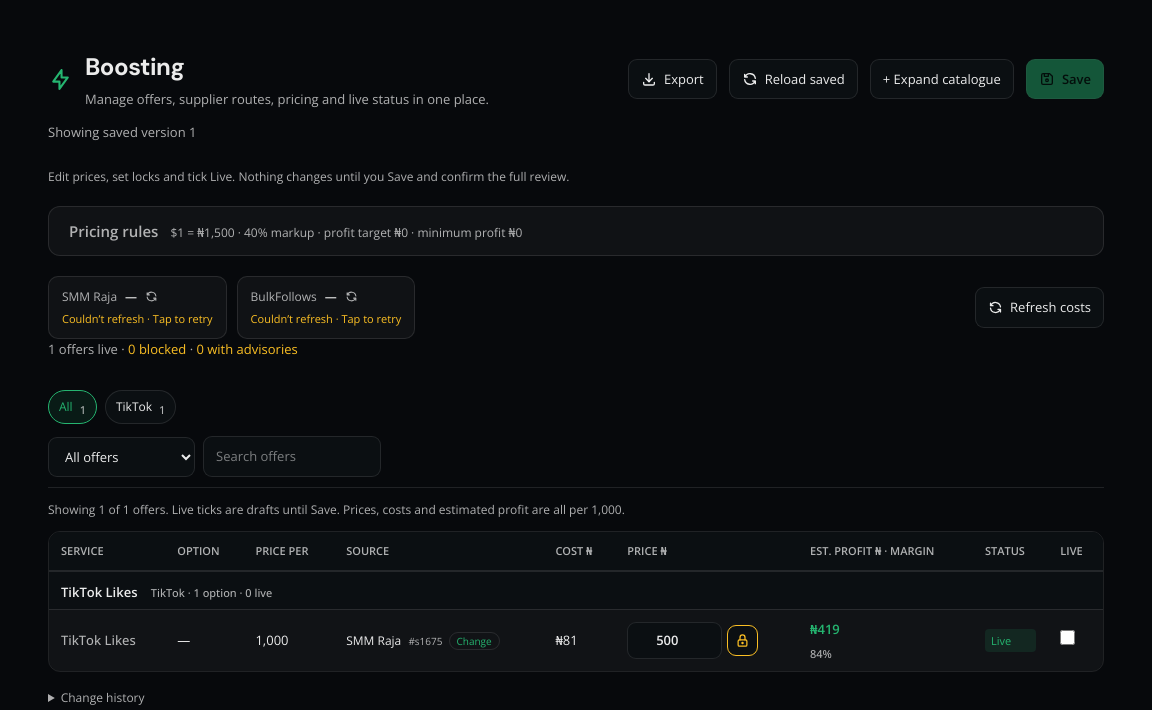
Test: filters actual live offers independently of draft ticks and can clear an empty search
Select "Live now" in the dropdown named "Status" at (122, 457), box [48,437,195,477]
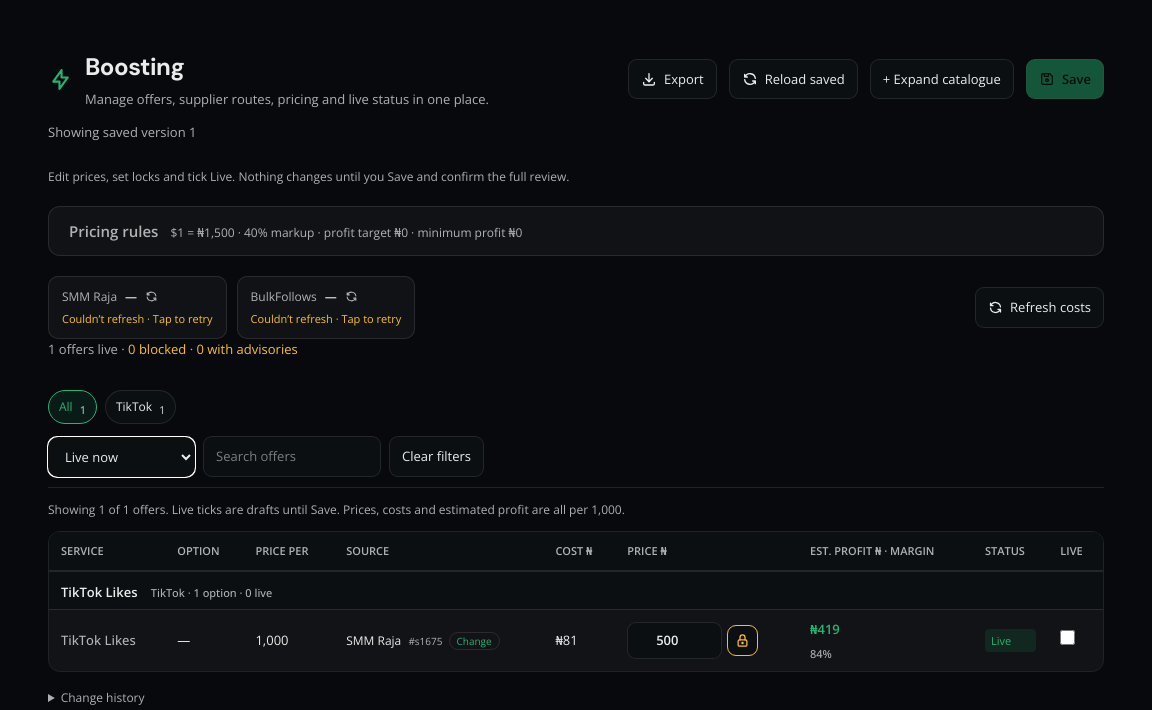
Expected: the button "TikTok Likes" is shown, [61,630,136,651]
Select "All offers" in the dropdown named "Status" at (122, 457), box [48,437,195,477]
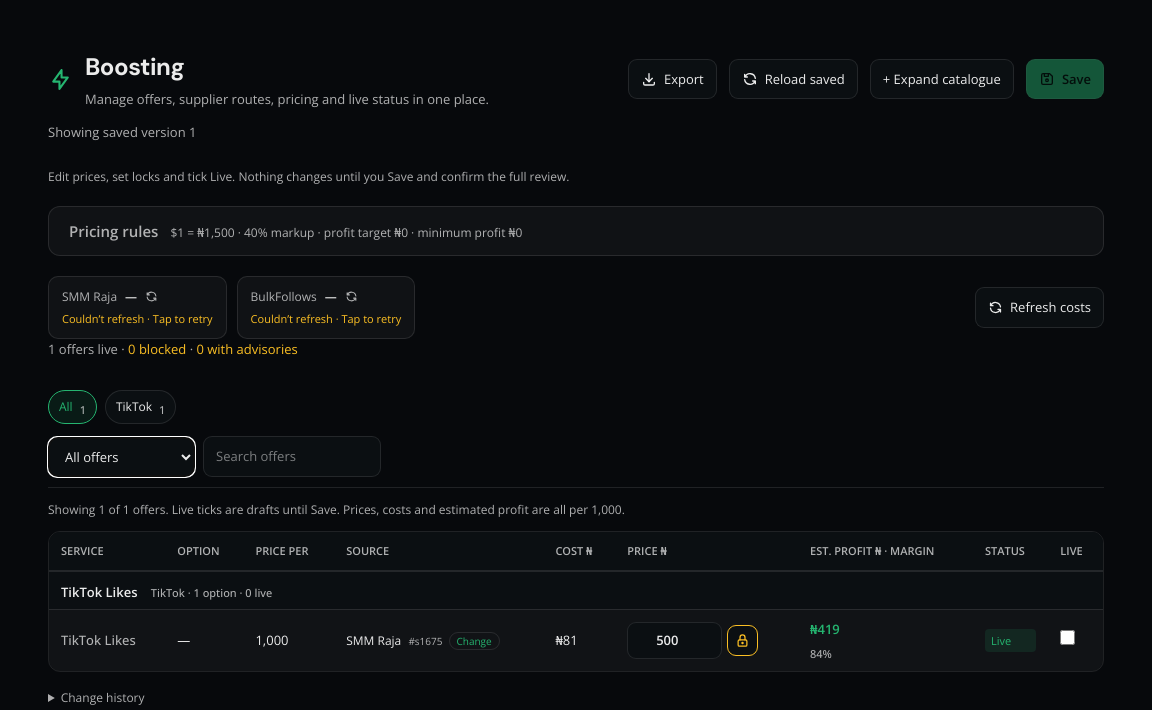
Replace the text in the number field named "Price for TikTok Likes value" with "900" at (675, 640), box [627,622,722,659]
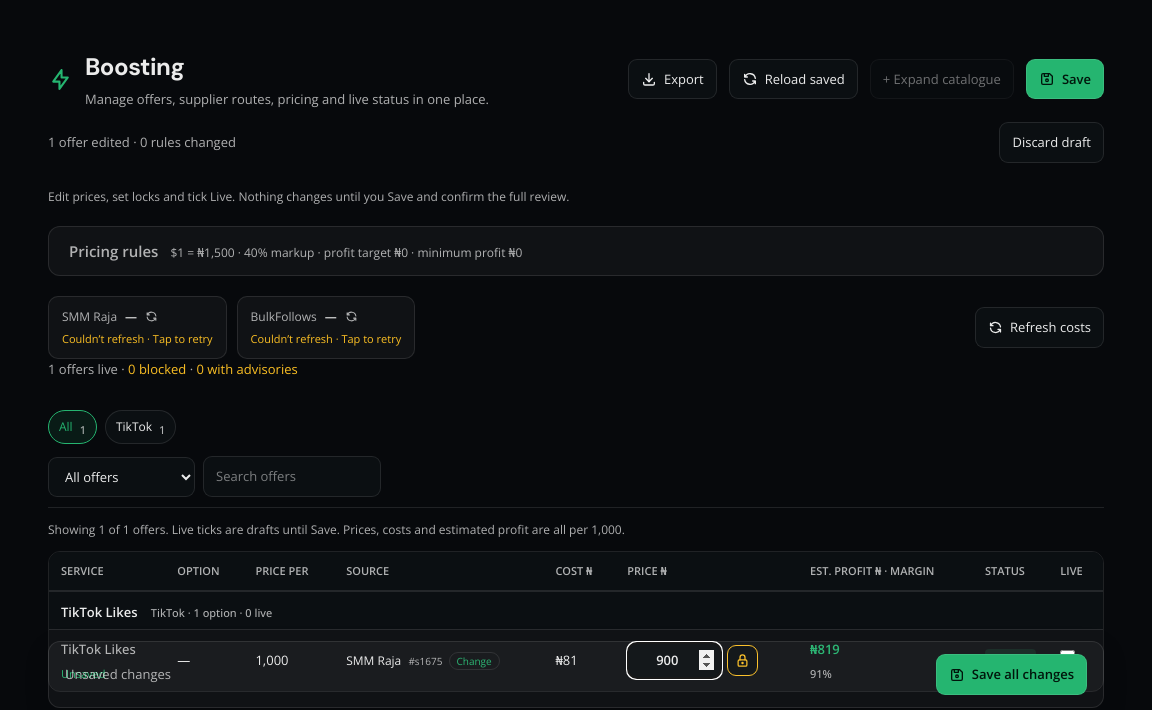
Select "Unsaved edits" in the dropdown named "Status" at (122, 477), box [48,457,195,497]
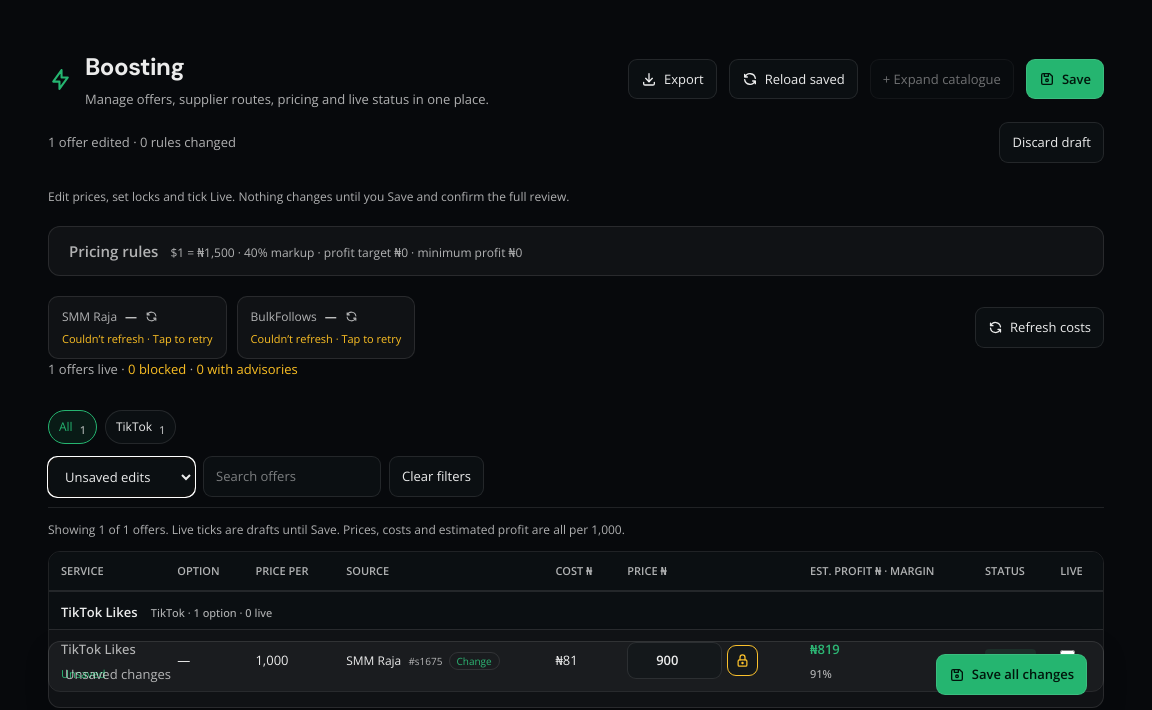
Expected: the button "TikTok Likes" is shown, [61,639,136,660]
Type "not-a-service" into the field labelled "Search offers" at (292, 477), box [203,456,381,497]
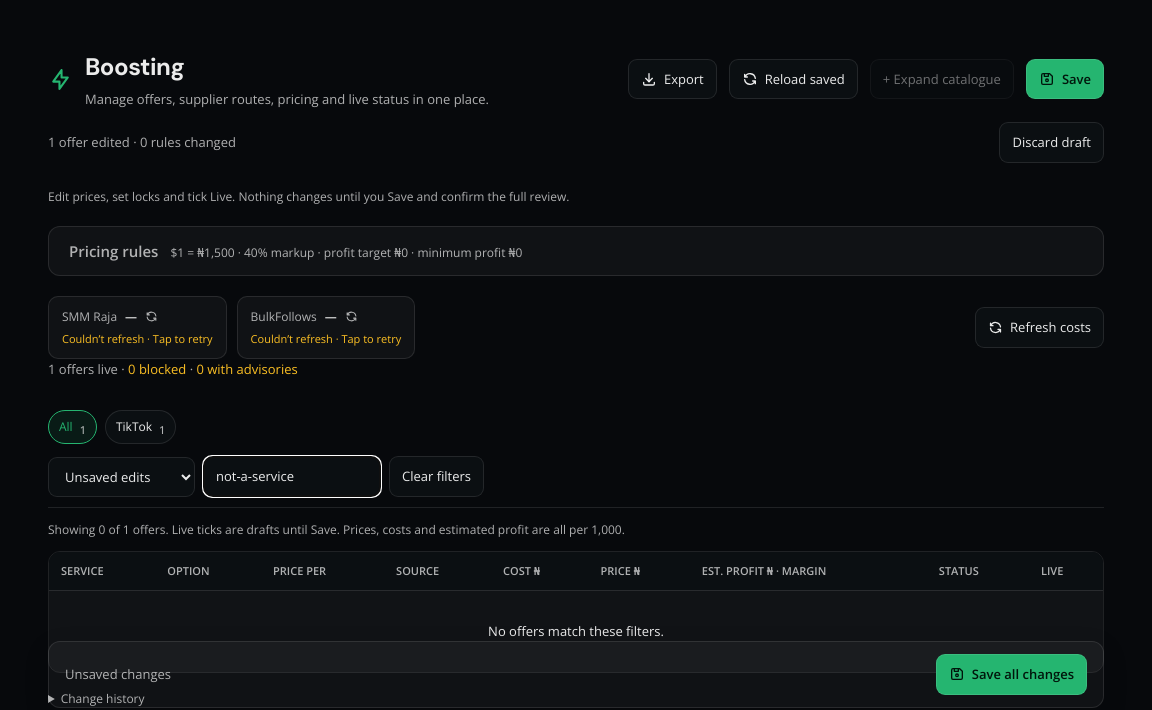
Click the button "Clear filters" at (437, 477), box [389,456,484,497]
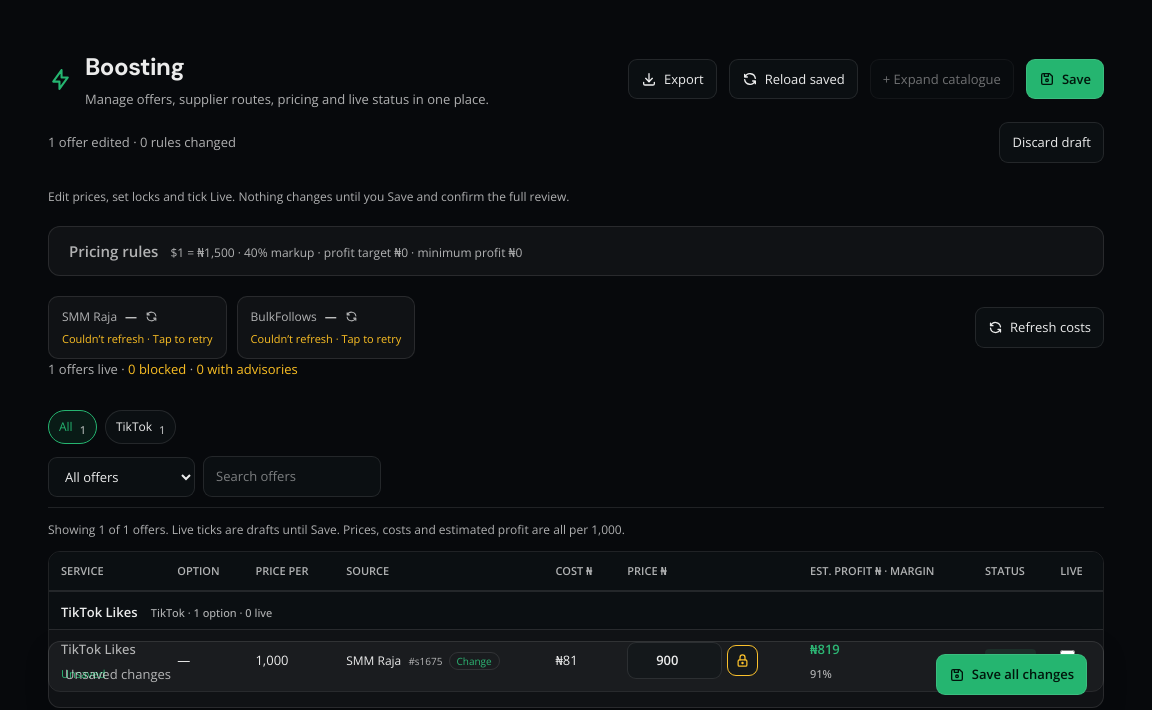
Expected: the number field named "Price for TikTok Likes value" holds "900", [627,642,722,679]
